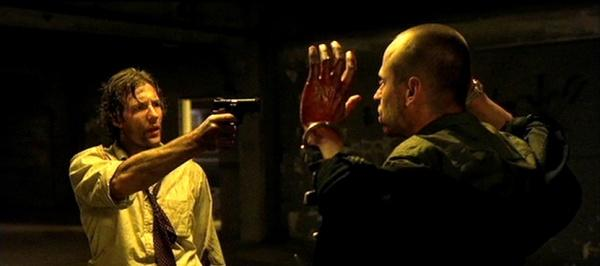Gun: (210, 96, 261, 127)
